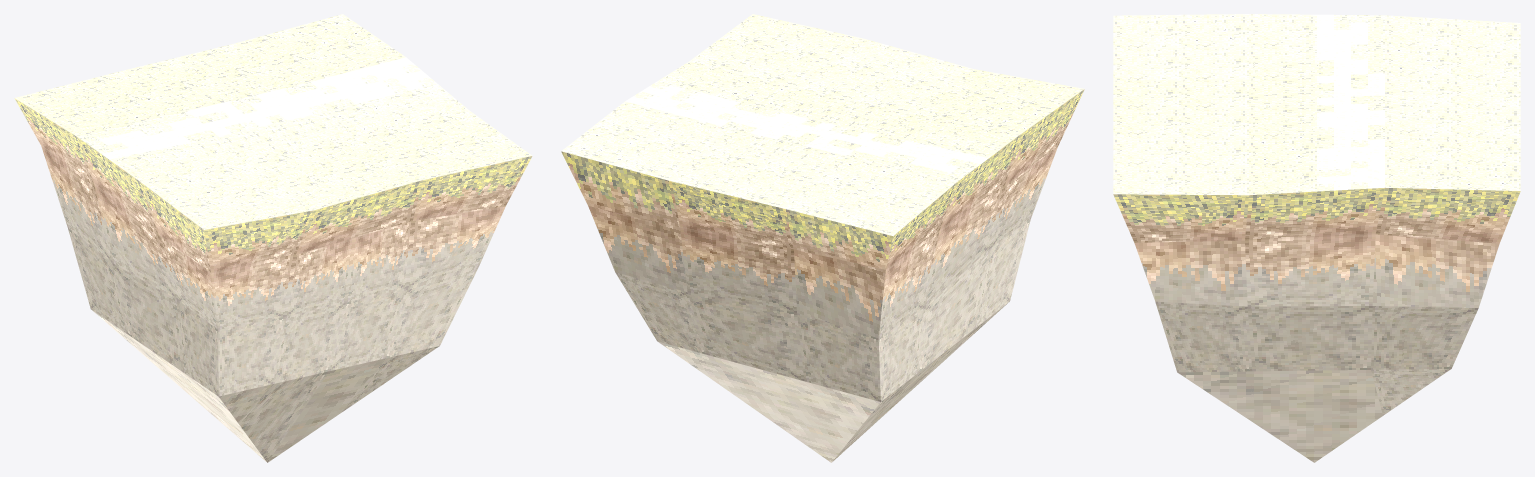
Rendered from L1.Floating.001 (1).glb.
3 views of the same model, side by side, from view 1: azimuth 30°, elevation 25°; view 2: azimuth 150°, elevation 25°; view 3: azimuth 270°, elevation 25° (orthographic). The views are drawn at different scales.
Visible parts, largest first — view 1: Cube; view 2: Cube; view 3: Cube.
Part boxes in pixels (x1=…): Cube: x1=14, y1=14, x2=532, y2=462; Cube: x1=561, y1=14, x2=1084, y2=462; Cube: x1=1113, y1=14, x2=1520, y2=462.
Bounding box in the file's own units: 2.97 × 2.95 × 2.97.
